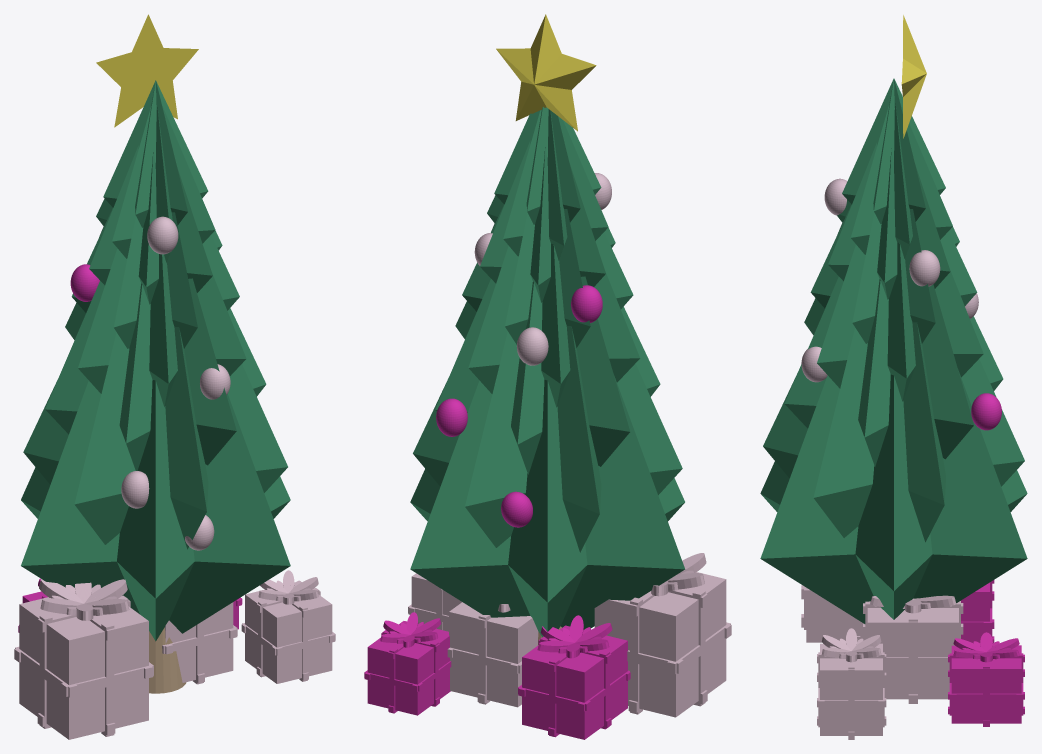
Rendered from Smashing Blad-Bruticus (1).glb.
3 renders of one model, left to right at view 1: azimuth 30°, elevation 25°; view 2: azimuth 150°, elevation 25°; view 3: azimuth 270°, elevation 25°, orthographic. The views are drawn at different scales.
Parts seen in each view (by area): view 1: Mesh_Mesh_head_geo.001_lambert2SG.001; view 2: Mesh_Mesh_head_geo.001_lambert2SG.001; view 3: Mesh_Mesh_head_geo.001_lambert2SG.001.
Boxes of the visible parts, <box> form: Mesh_Mesh_head_geo.001_lambert2SG.001: <box>14,14,335,739</box>; Mesh_Mesh_head_geo.001_lambert2SG.001: <box>364,14,731,739</box>; Mesh_Mesh_head_geo.001_lambert2SG.001: <box>760,15,1027,739</box>.
Size of the model in its own units: 0.041 by 0.0939 by 0.0346.
